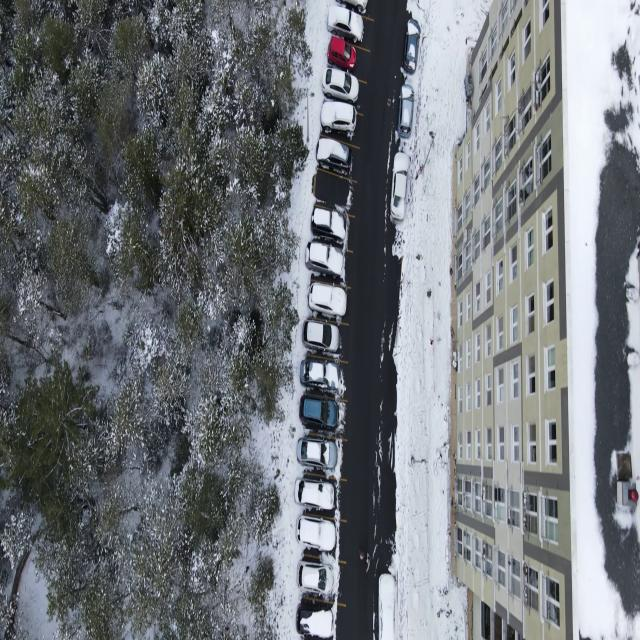p3rson: (363, 551, 371, 574), (358, 548, 364, 562)
